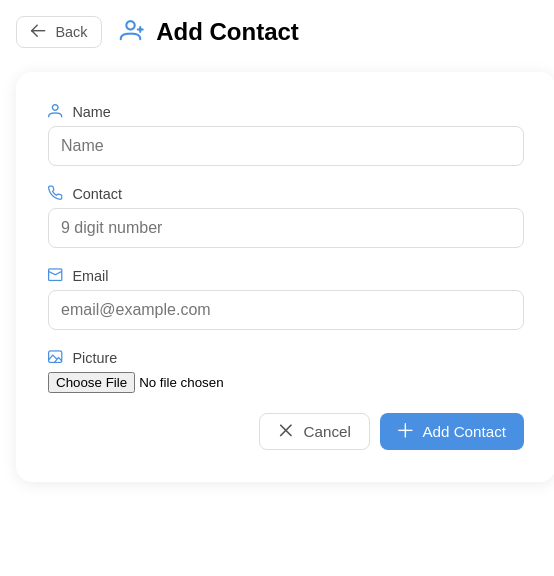
ContactForm validation › shows error when email is invalid
Type "notanemail" into the field with placeholder "email@example.com".
click(286, 310); type("notanemail")  # box x1=48 y1=290 x2=524 y2=330
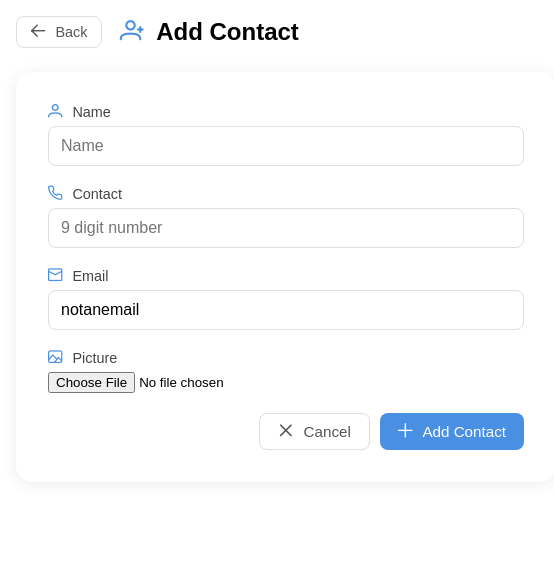
Submit the form, box x1=48 y1=104 x2=524 y2=450
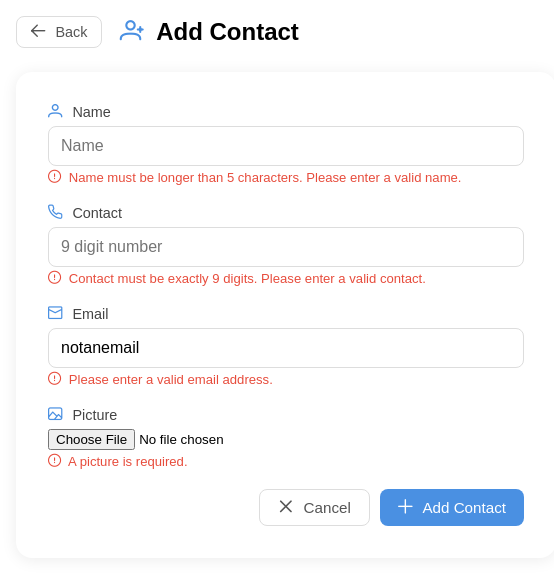
Expected: the text "Please enter a valid email address" is shown, x1=65 y1=372 x2=273 y2=387
